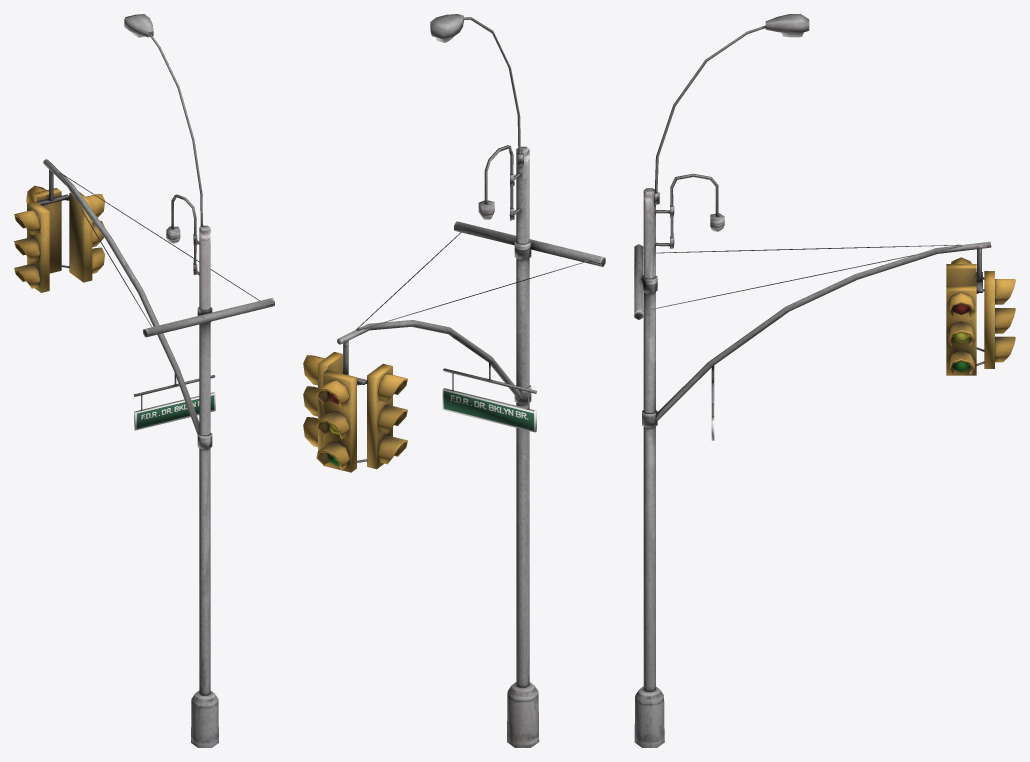
The model's file is TrafficLight.fbx.
3 renders of one model, left to right at view 1: azimuth 30°, elevation 25°; view 2: azimuth 150°, elevation 25°; view 3: azimuth 270°, elevation 25°, orthographic. The views are drawn at different scales.
Parts seen in each view (by area): view 1: utd_trafficlights; view 2: utd_trafficlights; view 3: utd_trafficlights.
Boxes of the visible parts, x1=… form: utd_trafficlights: x1=14, y1=14, x2=274, y2=747; utd_trafficlights: x1=303, y1=14, x2=605, y2=747; utd_trafficlights: x1=634, y1=14, x2=1015, y2=747.
Bounding box in the file's own units: 167 × 845 × 404.
